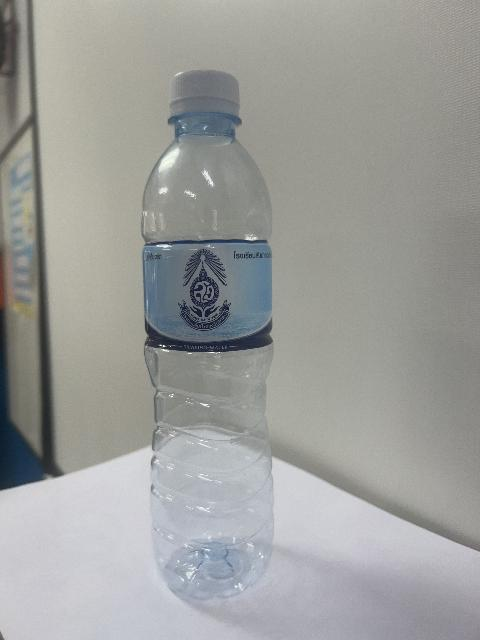bottle: (143, 70, 273, 598)
